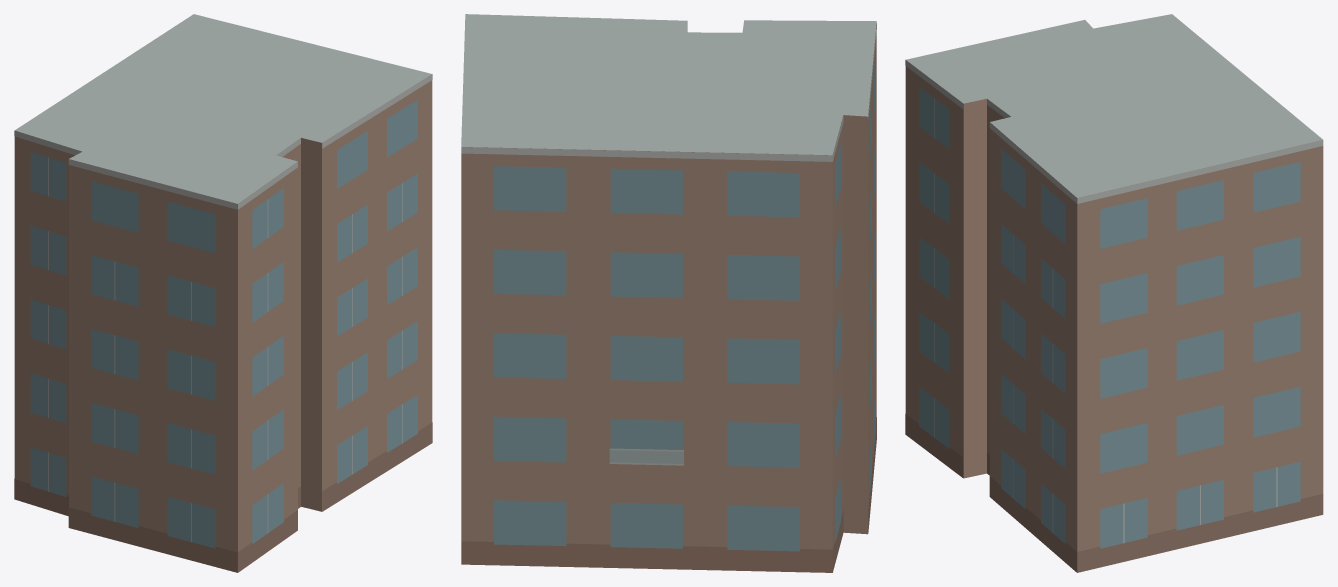
File: survey-upis-32987030.glb
The picture shows the model from 3 angles, left to right: view 1: azimuth 30°, elevation 25°; view 2: azimuth 150°, elevation 25°; view 3: azimuth 270°, elevation 25°; orthographic projection. The views are drawn at different scales.
Parts seen in each view (by area): view 1: survey-upis-32987030.tmp; view 2: survey-upis-32987030.tmp; view 3: survey-upis-32987030.tmp.
Boxes of the visible parts, x1,y1,x2,y2 form: survey-upis-32987030.tmp: [14, 14, 432, 572]; survey-upis-32987030.tmp: [461, 14, 876, 572]; survey-upis-32987030.tmp: [905, 14, 1323, 572].
Size of the model in its own units: 16.06 by 15.25 by 15.42.
